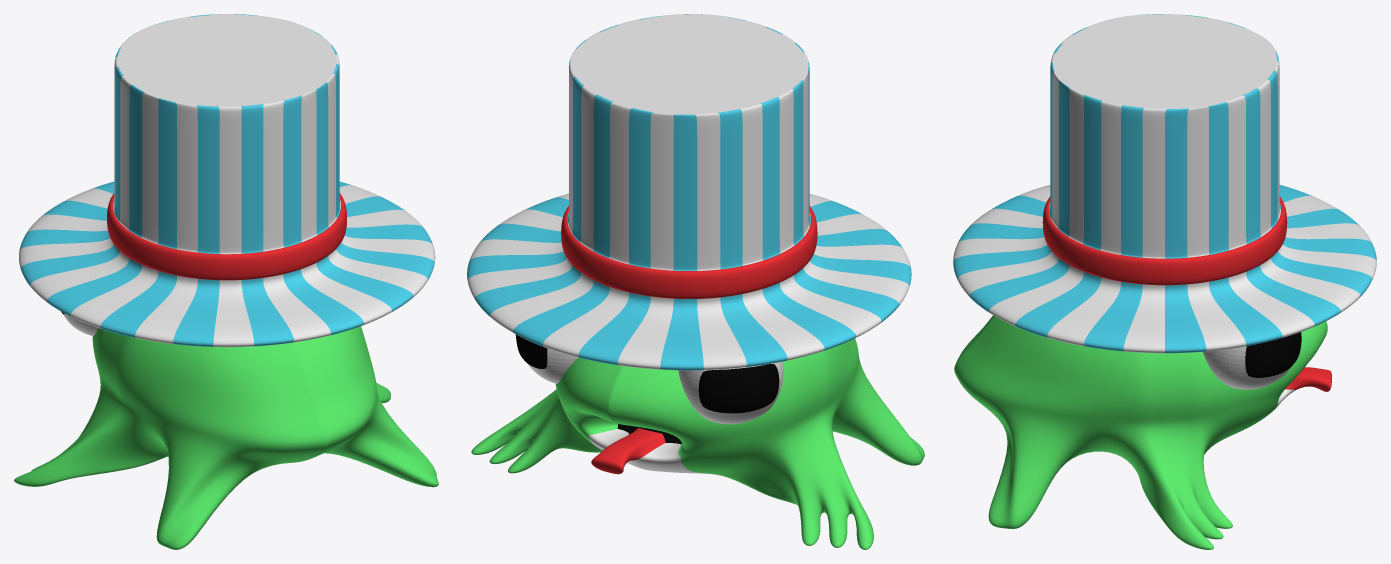
Rendered from charles.fbx.
The picture shows the model from 3 angles, left to right: view 1: azimuth 30°, elevation 25°; view 2: azimuth 150°, elevation 25°; view 3: azimuth 270°, elevation 25°; orthographic projection. The views are drawn at different scales.
Parts seen in each view (by area): view 1: Cube.001; view 2: Cube.001; view 3: Cube.001.
Boxes of the visible parts, x1,y1,x2,y2 form: Cube.001: (14, 14, 438, 549); Cube.001: (467, 14, 924, 549); Cube.001: (953, 14, 1376, 549).
Bounding box in the file's own units: 93.78 × 95.32 × 90.8.
